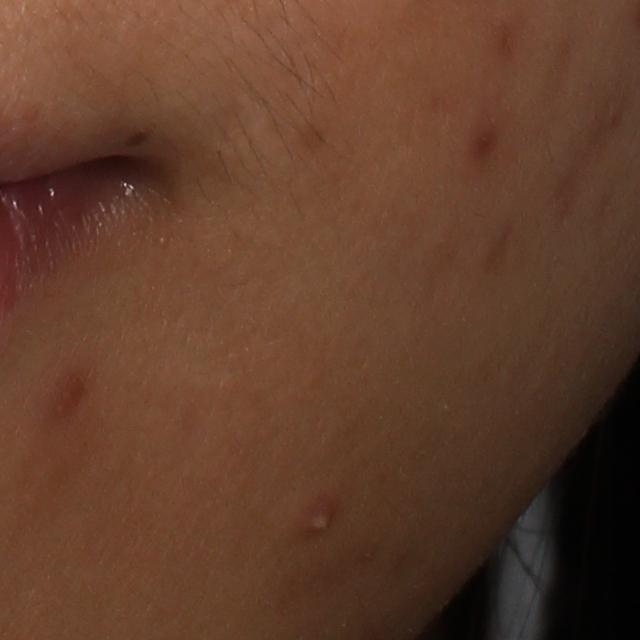nevus: (123, 130, 149, 148)
pustule: (290, 491, 346, 544)
